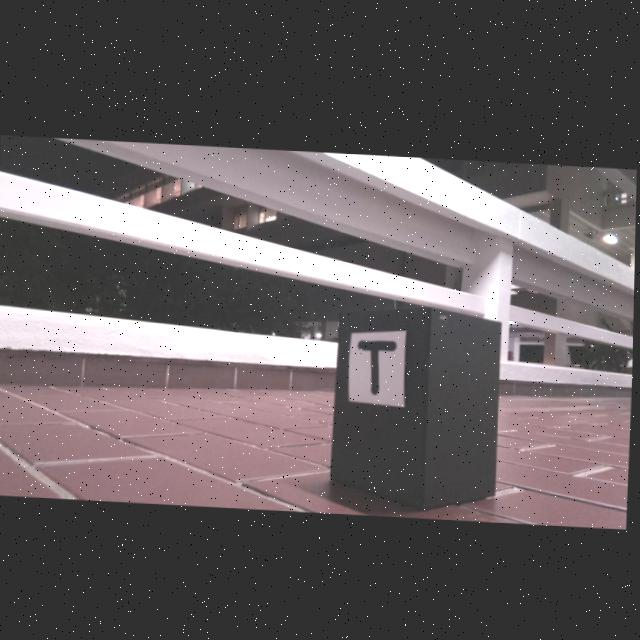T: (359, 336, 398, 392)
